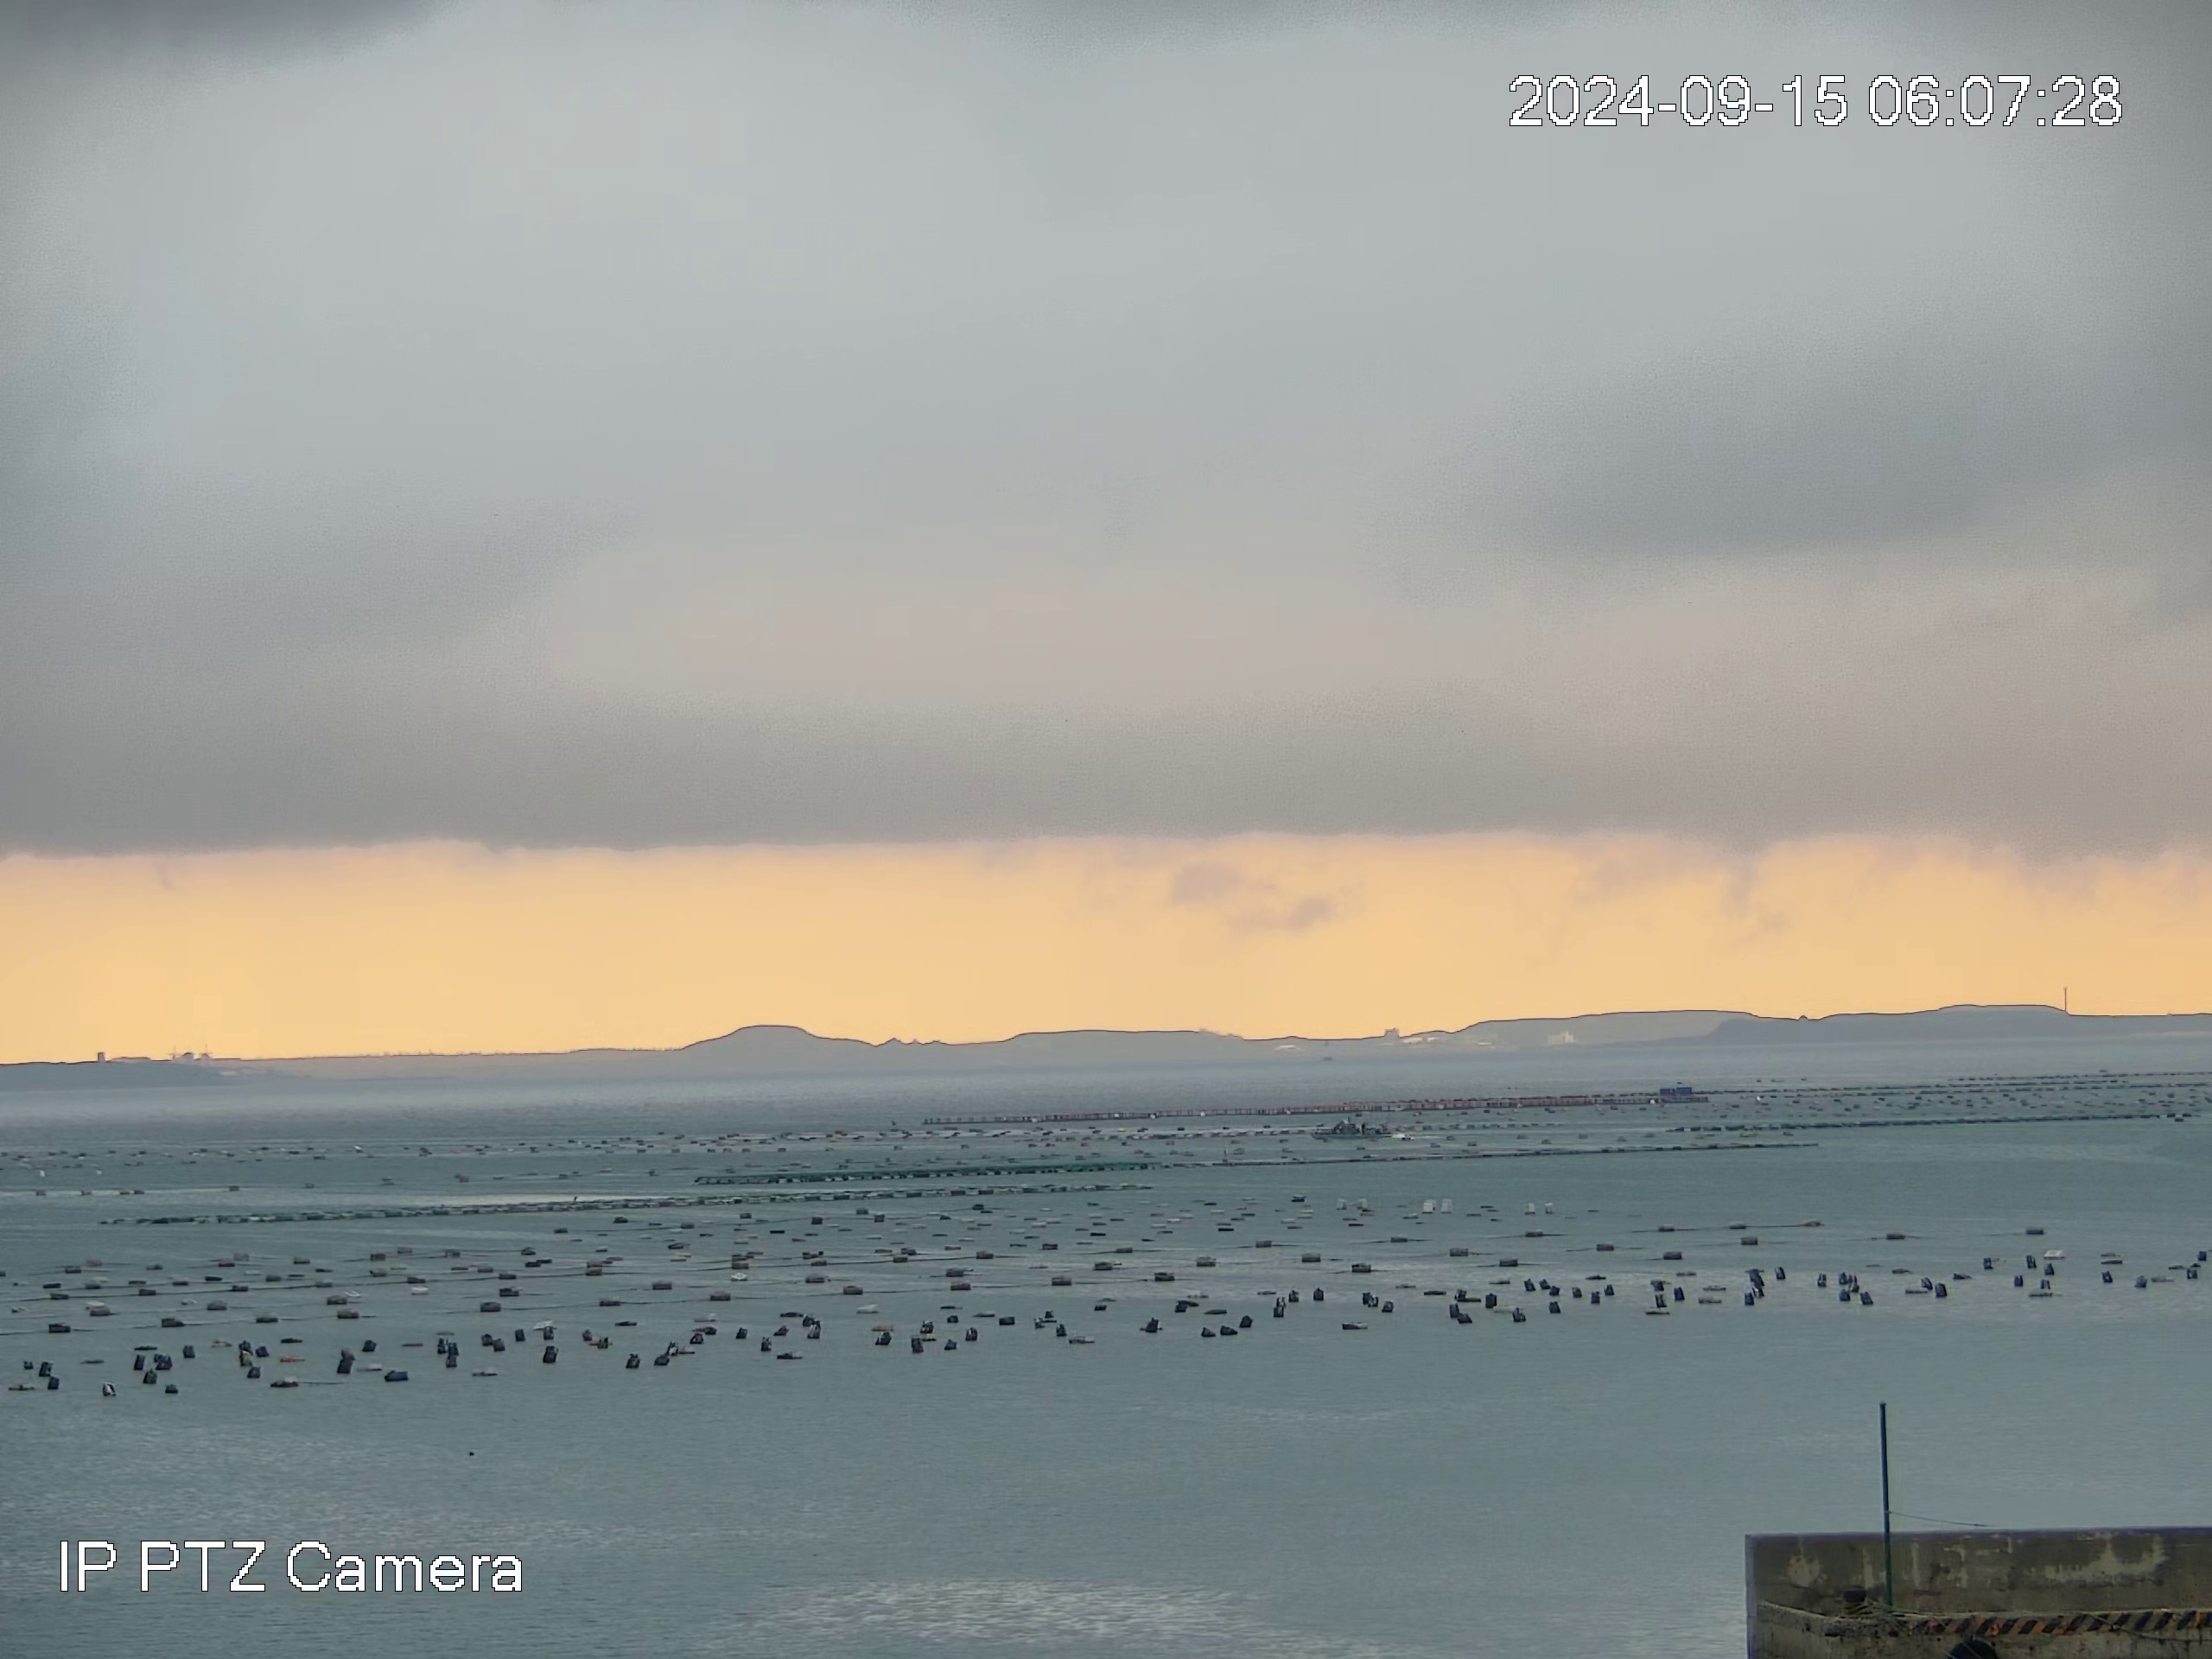boat: (1315, 1117, 1390, 1143)
